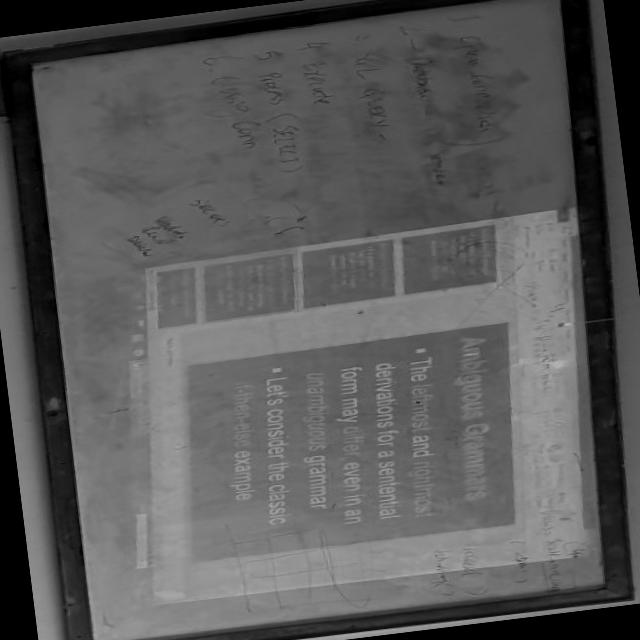Slide: (112, 207, 601, 609)
White-board: (16, 0, 615, 640)
